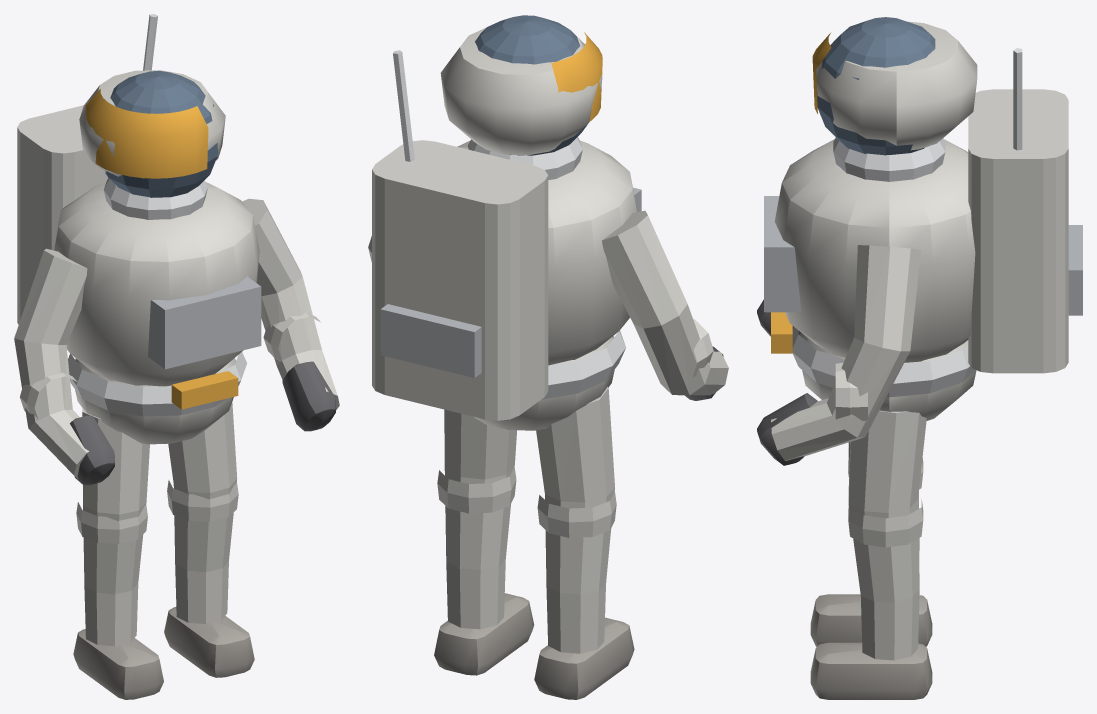
The model's file is eva-suit-23f03707.glb.
The picture shows the model from 3 angles, left to right: view 1: azimuth 30°, elevation 25°; view 2: azimuth 150°, elevation 25°; view 3: azimuth 270°, elevation 25°; orthographic projection. The views are drawn at different scales.
Visible parts, largest first — view 1: eva-suit, leg-right, leg-left, arm-left, arm-right; view 2: eva-suit, leg-left, leg-right, arm-left; view 3: eva-suit, leg-right, arm-right.
Boxes of the visible parts, box(x1,y1,x2,y2) form: eva-suit: box(17, 14, 335, 699); leg-right: box(167, 402, 238, 623); leg-left: box(76, 408, 149, 646); arm-left: box(14, 248, 89, 478); arm-right: box(242, 198, 339, 409); eva-suit: box(372, 15, 723, 699); leg-left: box(536, 387, 616, 653); leg-right: box(437, 409, 516, 629); arm-left: box(602, 210, 728, 395); eva-suit: box(757, 17, 1082, 699); leg-right: box(848, 410, 926, 660); arm-right: box(771, 245, 920, 460).
Size of the model in its own units: 1.04 by 2 by 0.9091.
